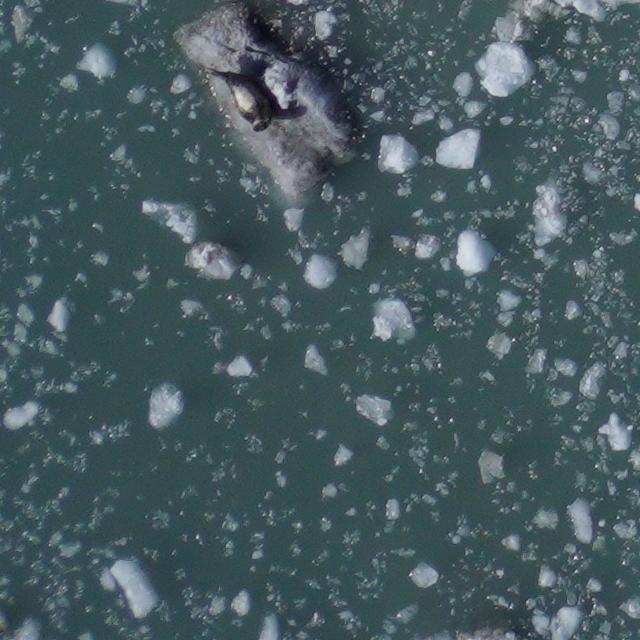seal: (202, 46, 286, 141)
